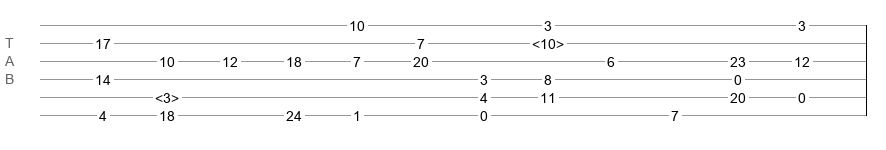0: (480, 108, 488, 118), (734, 72, 742, 82), (798, 90, 806, 100)
1: (353, 108, 361, 118)
10: (159, 54, 175, 64), (349, 18, 365, 28)
11: (540, 90, 556, 100)
12: (222, 54, 238, 64), (794, 54, 810, 64)
14: (95, 72, 111, 82)
17: (95, 36, 111, 46)
18: (159, 108, 175, 118), (286, 54, 302, 64)
20: (413, 54, 429, 64), (730, 90, 746, 100)
23: (730, 54, 746, 64)
24: (286, 108, 302, 118)
3: (480, 72, 488, 82), (544, 18, 552, 28), (798, 18, 806, 28)
4: (99, 108, 107, 118), (480, 90, 488, 100)
6: (607, 54, 615, 64)
7: (353, 54, 361, 64), (417, 36, 425, 46), (671, 108, 679, 118)
8: (544, 72, 552, 82)
harmonic: (532, 36, 564, 46), (155, 90, 179, 100)
